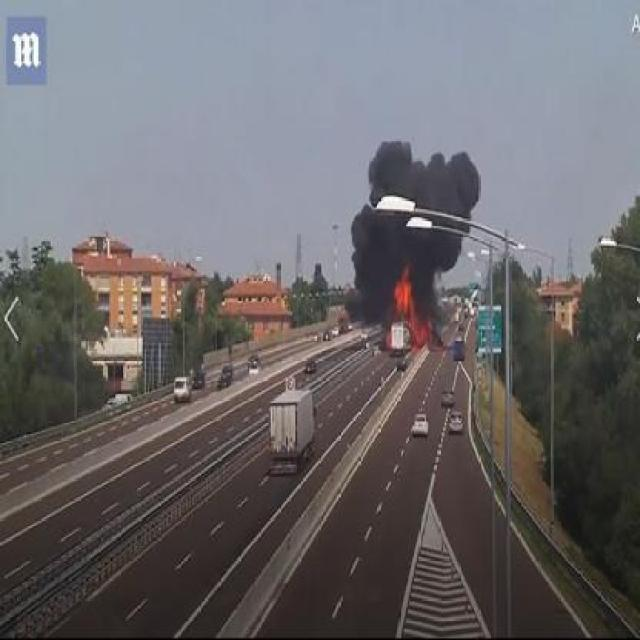Fire: (389, 263, 440, 357)
